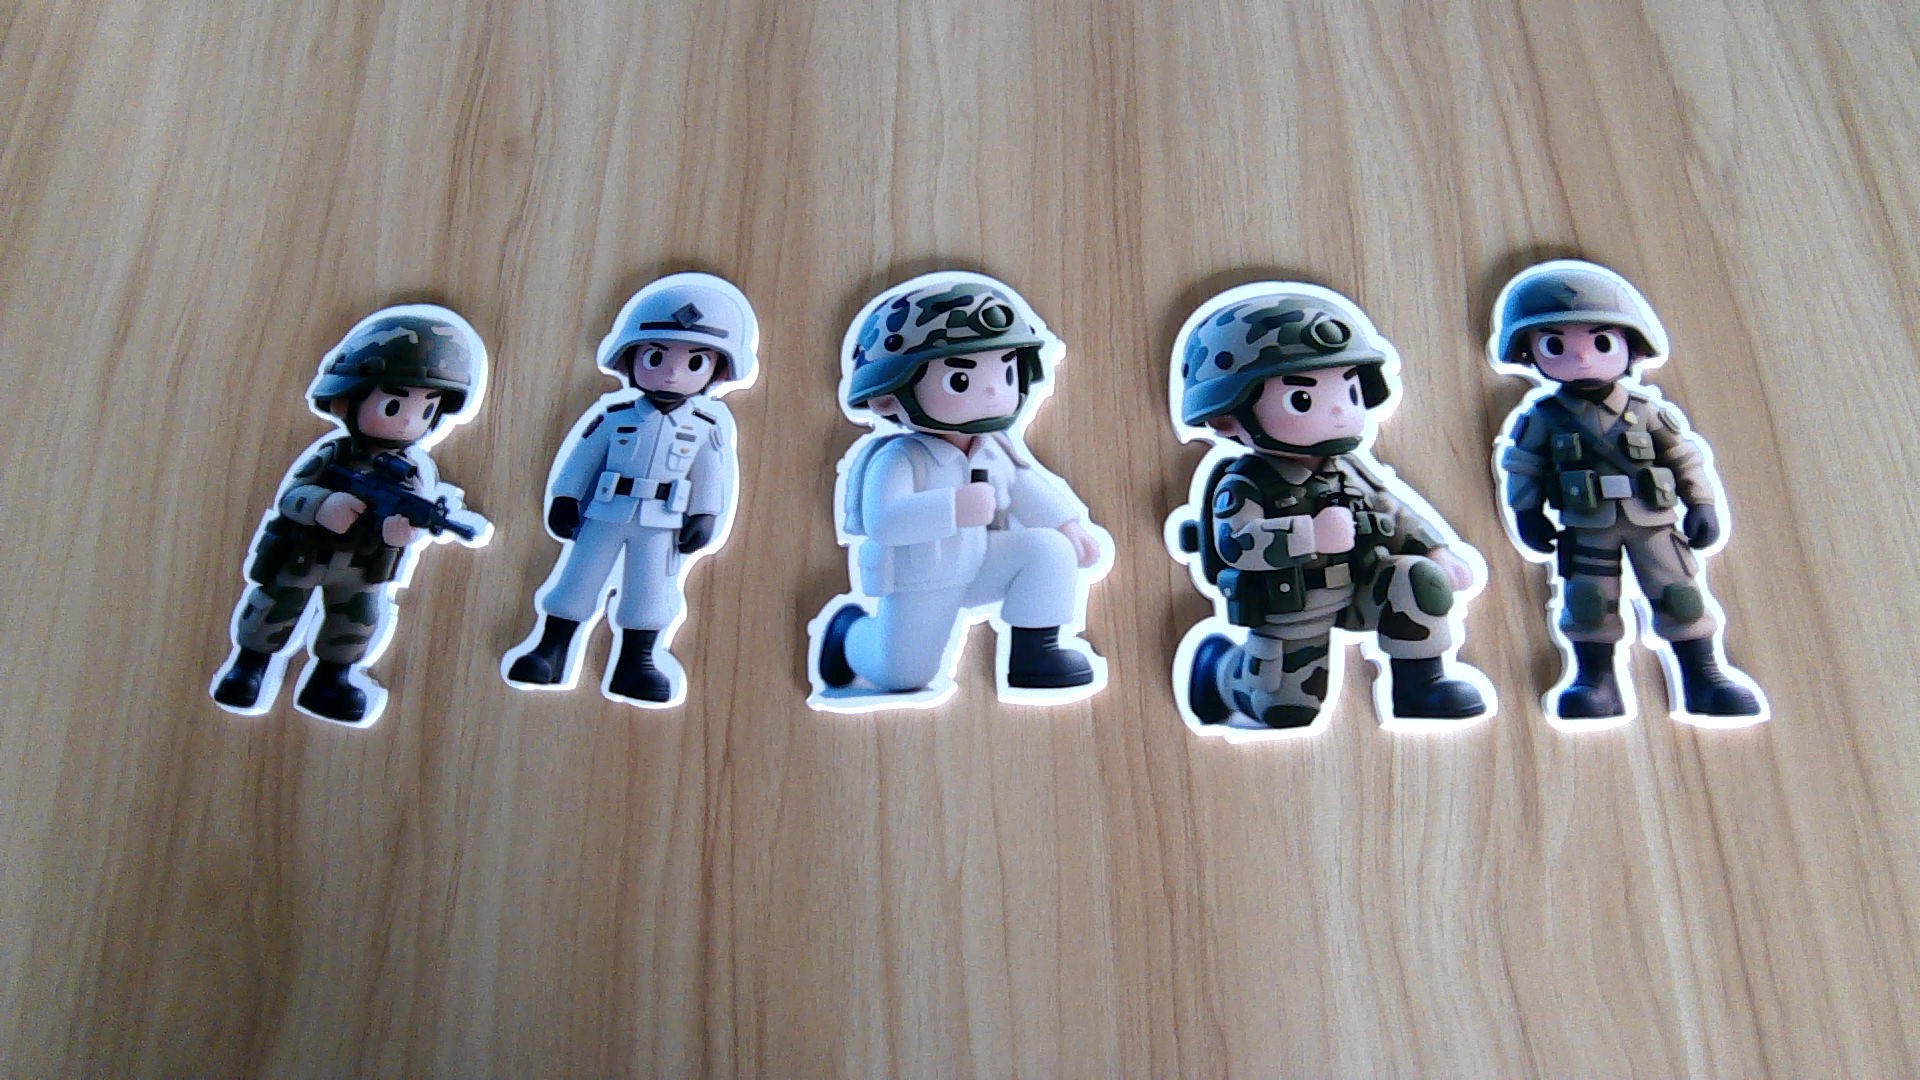人质: (803, 435, 1116, 713), (500, 402, 742, 713)
友军: (1155, 458, 1505, 738), (1490, 386, 1772, 729), (206, 450, 485, 729)
